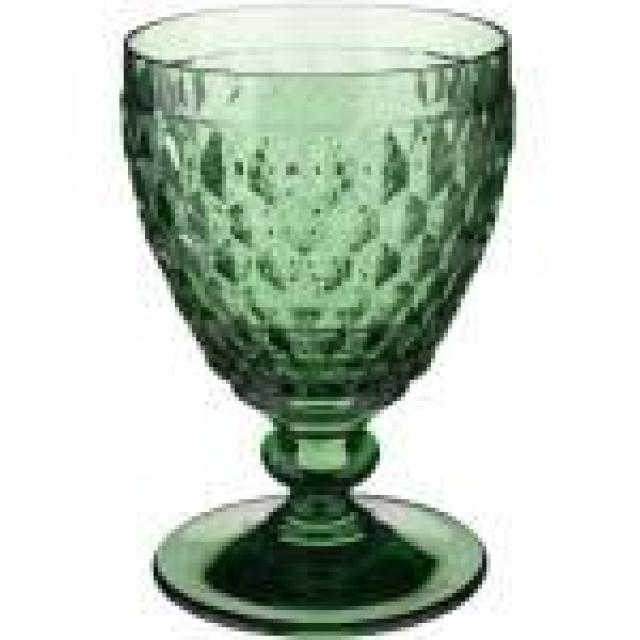glass: (119, 0, 512, 636)
